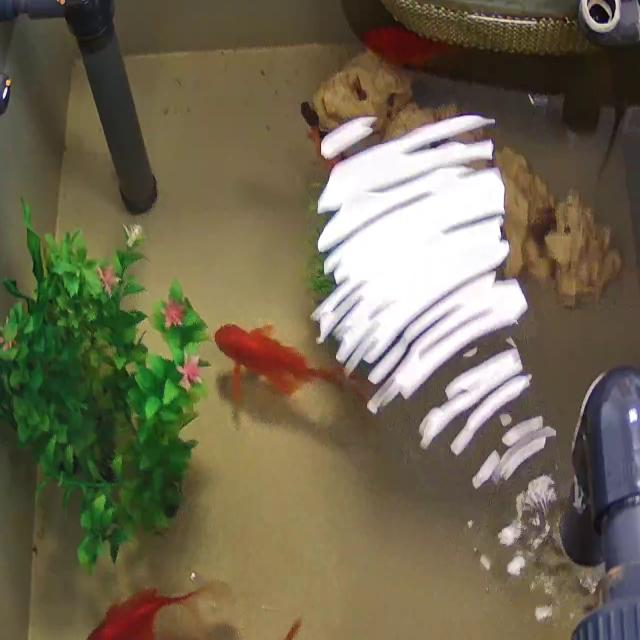fish: (189, 301, 374, 436), (38, 579, 248, 640), (352, 12, 465, 68)
